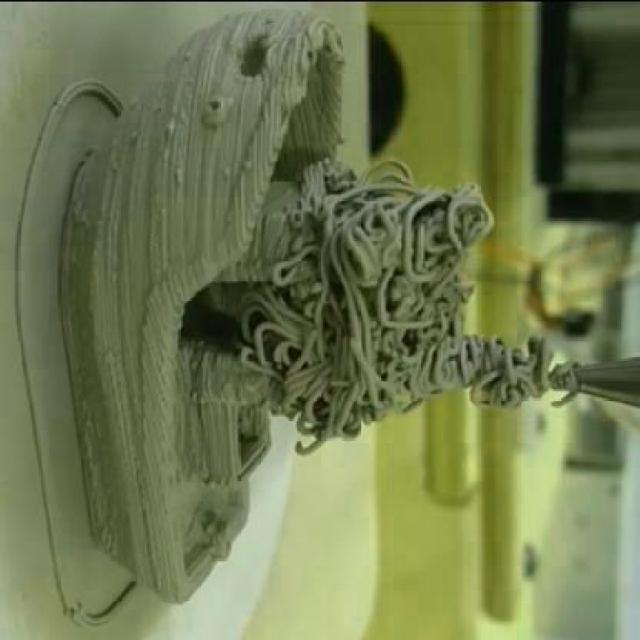spaghetti: (232, 146, 598, 466)
